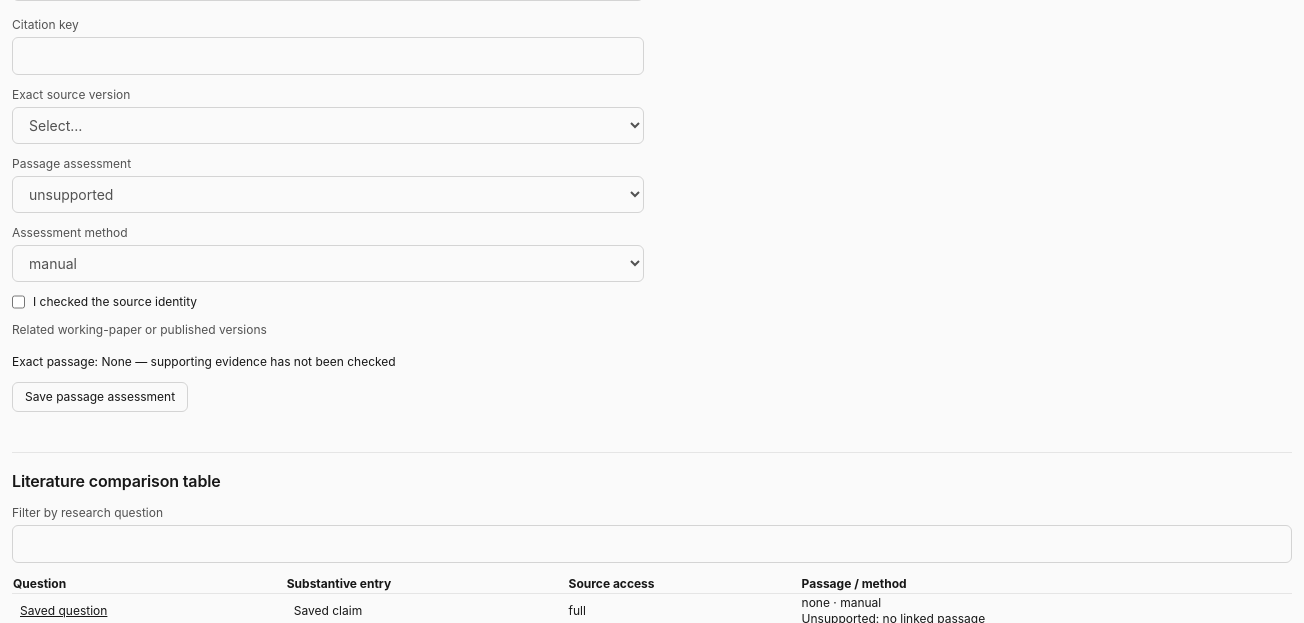
Test case: stops paging at the end of a saved source, on a fresh pane each time
The width and height of the screenshot is (1304, 623).
(page scrolled)
What coordinates should you click on to do the following:
click the button "Saved question"
I would click on:
 (64, 610)
Its box is [20,602,107,618].
(page scrolled)
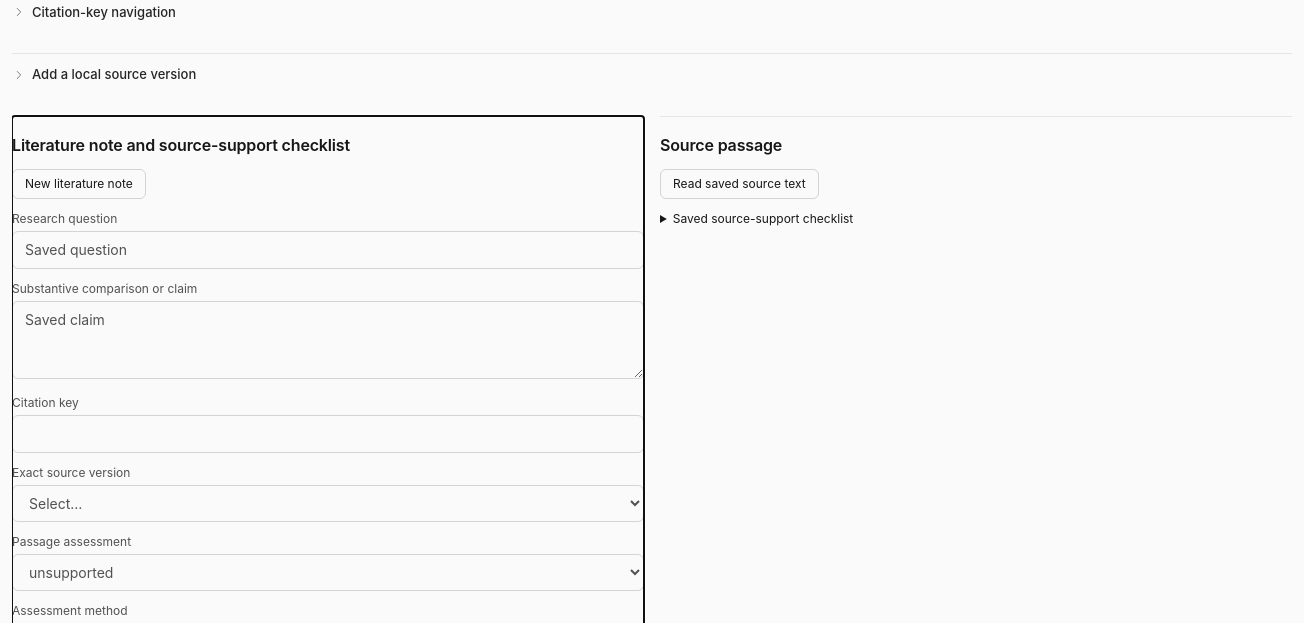
What coordinates should you click on to do the following:
click the button "Read saved source text"
I would click on:
 (739, 184)
Its box is [660,168,819,198].
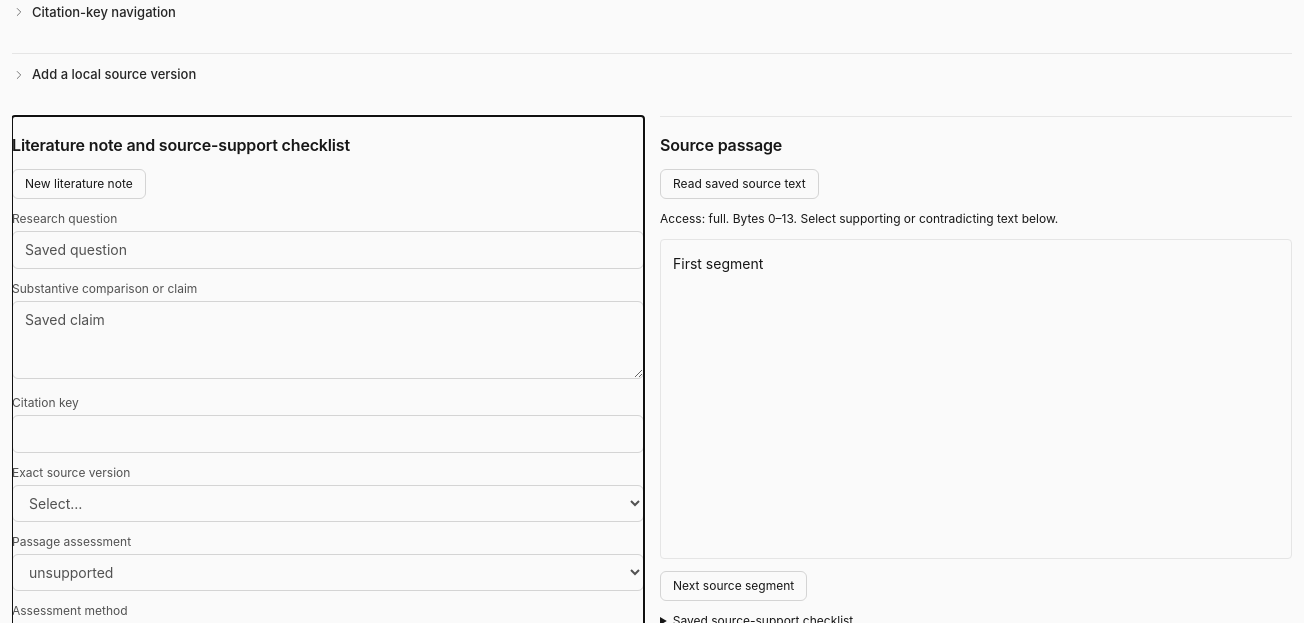
What coordinates should you click on to do the following:
click the button "Next source segment"
I would click on:
 (734, 586)
Its box is [660,570,807,600].
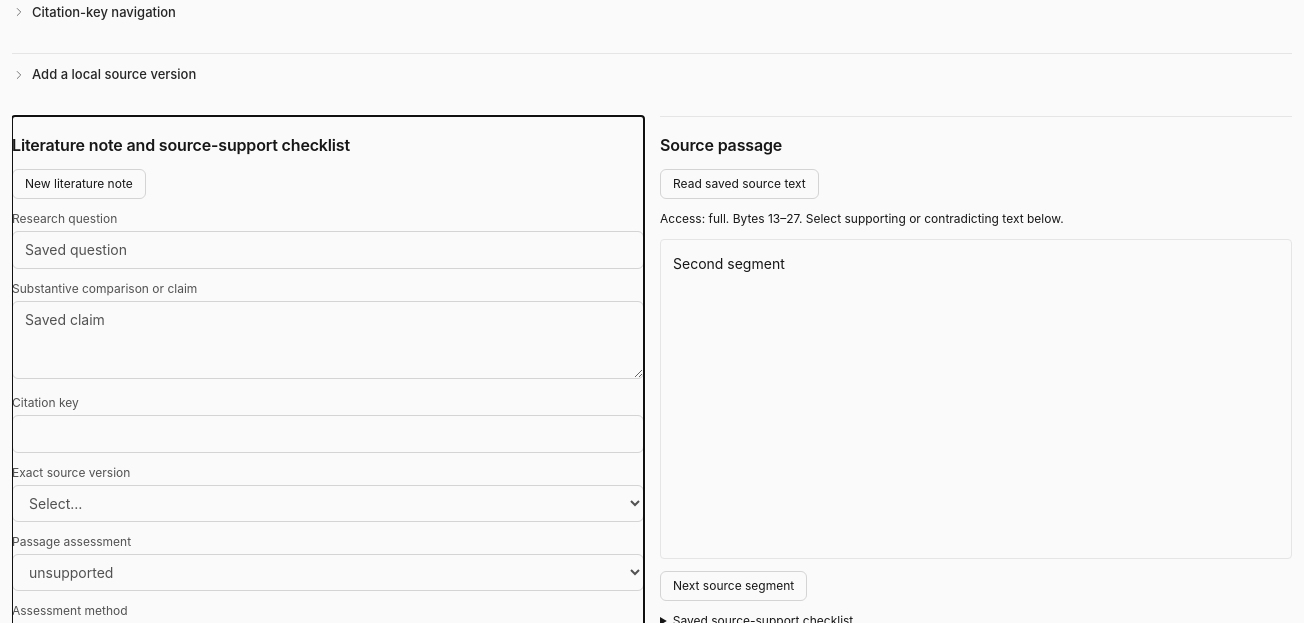
expect the button "Next source segment" is enabled: met
What coordinates should you click on to do the following:
click the button "Next source segment"
I would click on:
 (734, 586)
Its box is [660,570,807,600].
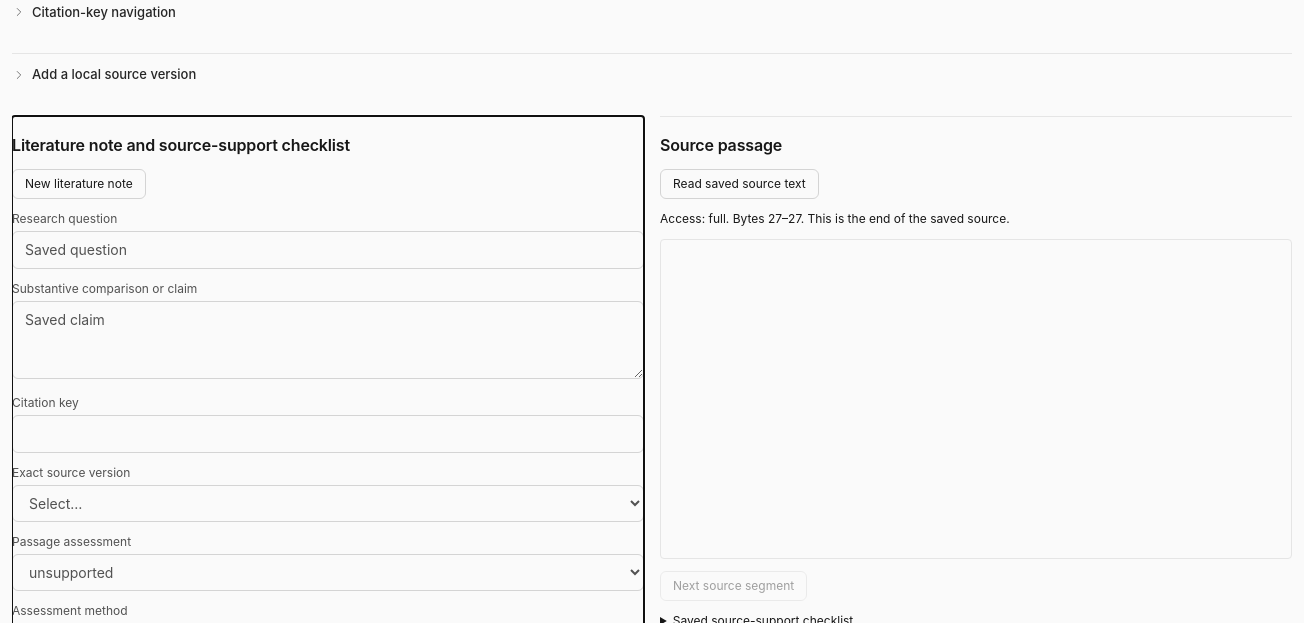
expect the text "This is the end of the saved source" is shown: met, box [808,210,1010,226]
expect the button "Next source segment" is disabled: met, box [660,570,807,600]
